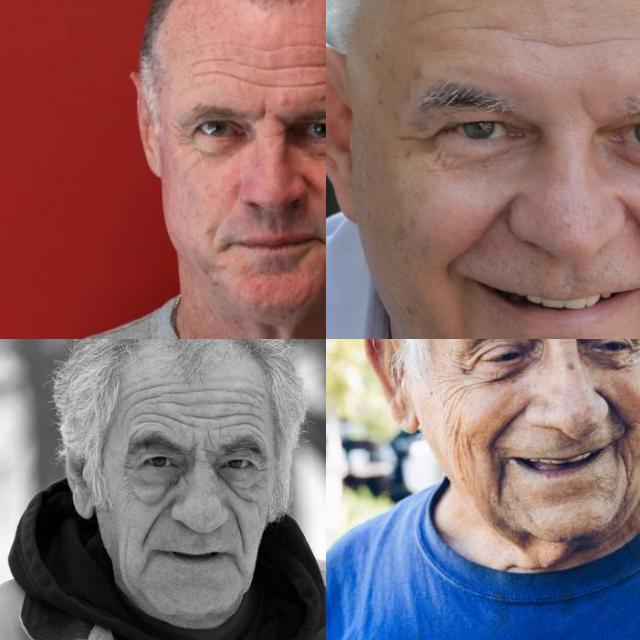bunny_line: (227, 484, 260, 506)
crows_feet: (392, 124, 444, 148), (452, 356, 472, 384), (116, 455, 140, 477), (248, 459, 274, 479), (170, 118, 190, 142)
forehead: (525, 28, 613, 66), (128, 382, 170, 428), (184, 390, 226, 430), (234, 389, 270, 435), (468, 16, 512, 46), (416, 0, 466, 24), (245, 57, 277, 93), (284, 59, 320, 91), (198, 52, 232, 78)
frown_line: (573, 88, 601, 128), (188, 440, 218, 466), (255, 103, 273, 123)
gummy_smile: (450, 198, 510, 264), (140, 498, 170, 542), (492, 402, 526, 438), (226, 507, 252, 547), (626, 206, 640, 272), (615, 407, 633, 441)
masseter: (444, 412, 472, 458)
sad_smile: (489, 463, 509, 501), (617, 450, 635, 482), (134, 552, 156, 574), (229, 552, 245, 576)
